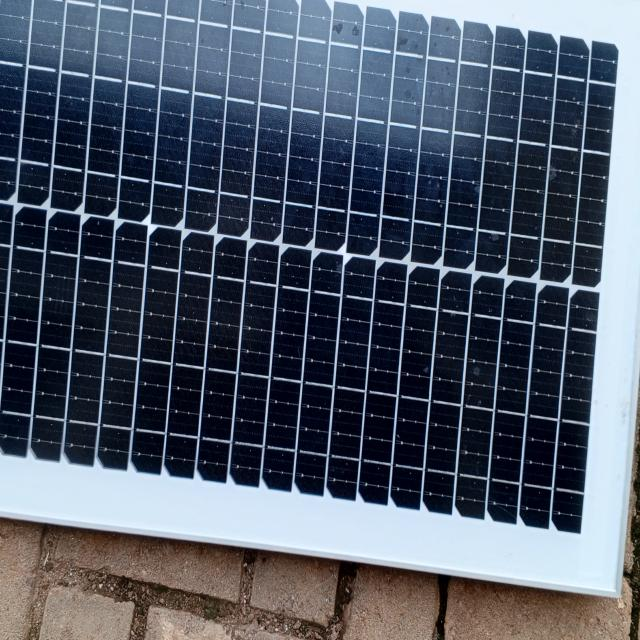Clean: (1, 6, 596, 498)
